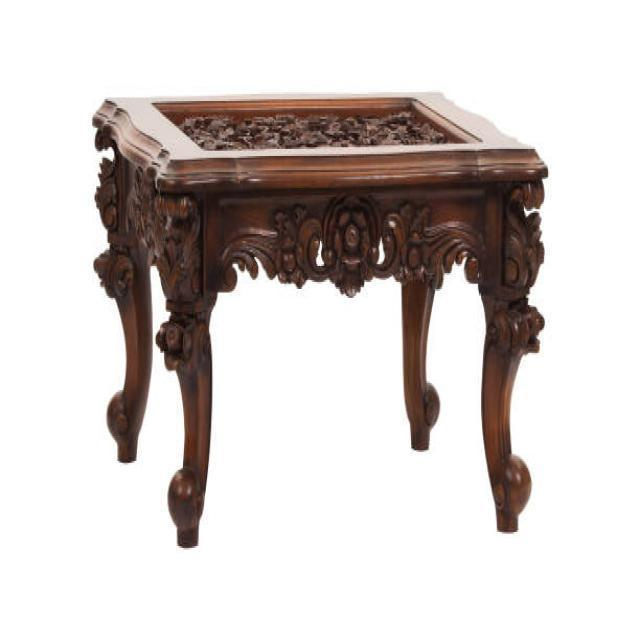table: (91, 89, 548, 546)
